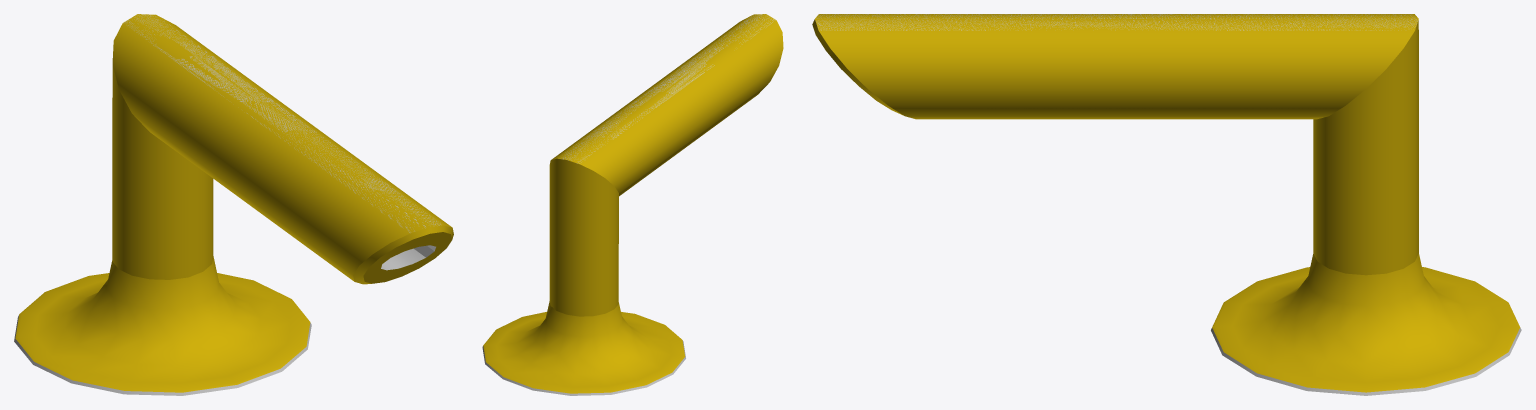
Rendered from original_3.obj.
3 views of the same model, side by side, from view 1: azimuth 30°, elevation 25°; view 2: azimuth 150°, elevation 25°; view 3: azimuth 270°, elevation 25° (orthographic). The views are drawn at different scales.
Parts seen in each view (by area): view 1: mesh2/mesh2-geometry#mesh2-geometry; view 2: mesh2/mesh2-geometry#mesh2-geometry; view 3: mesh2/mesh2-geometry#mesh2-geometry.
Part boxes in pixels (box(x1,y1,x2,y2)): mesh2/mesh2-geometry#mesh2-geometry: box(14, 14, 453, 395); mesh2/mesh2-geometry#mesh2-geometry: box(482, 14, 783, 395); mesh2/mesh2-geometry#mesh2-geometry: box(812, 14, 1521, 395).
Size of the model in its own units: 0.3115 by 0.3443 by 0.7104.
